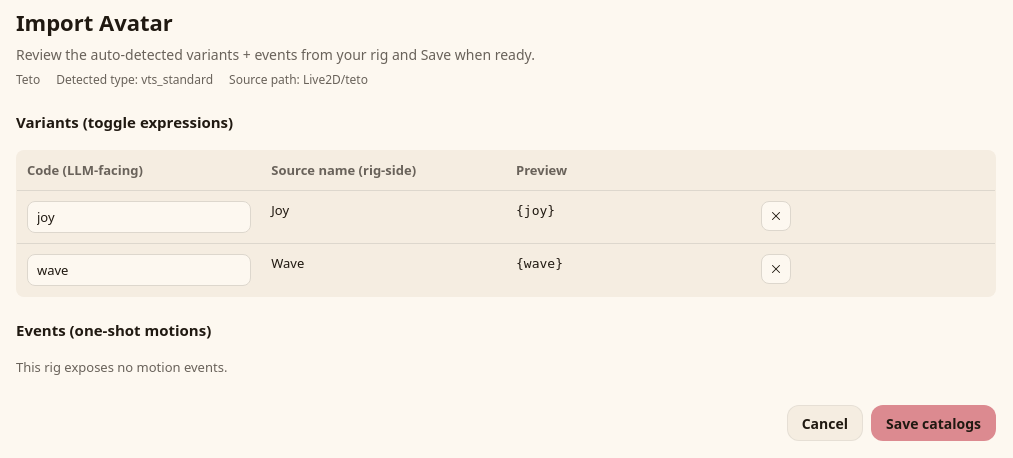
it: AvatarImport review route › deletes a variant row
Expected: the row with test id "variant-row-0" is shown, [16,191,996,244]
Expected: the field showing "wave" in the row of "{wave}" is shown, [27,254,251,286]
Click the button with test id "variant-delete-0" at point(776, 216), box [761,201,791,231]
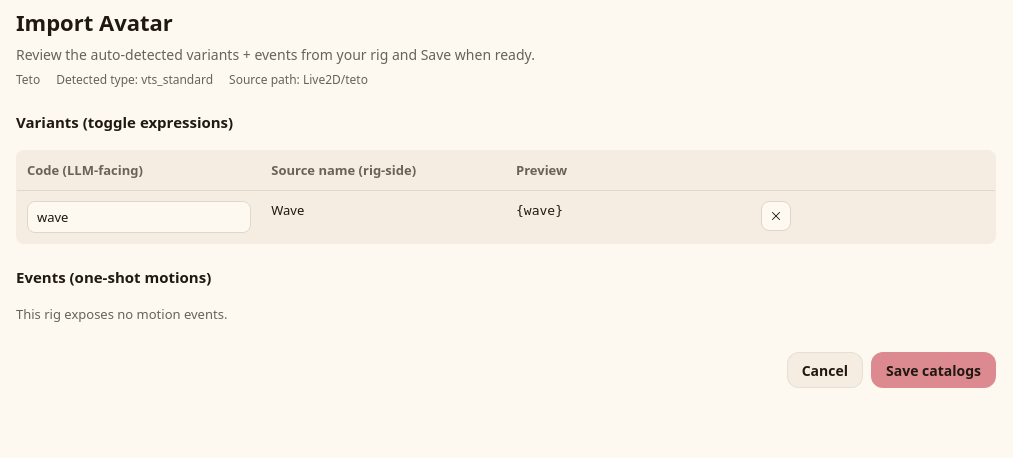
Now the text showing "joy" is gone
Now the field showing "wave" is shown, box [27,201,251,233]
